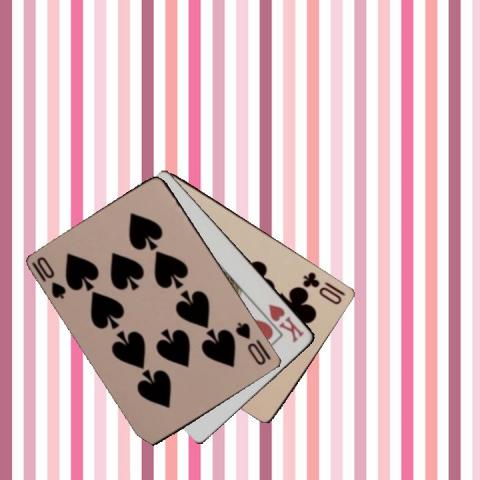10c: (300, 269, 347, 306)
10s: (29, 253, 68, 301), (233, 319, 268, 367)
Kh: (265, 301, 306, 344)
